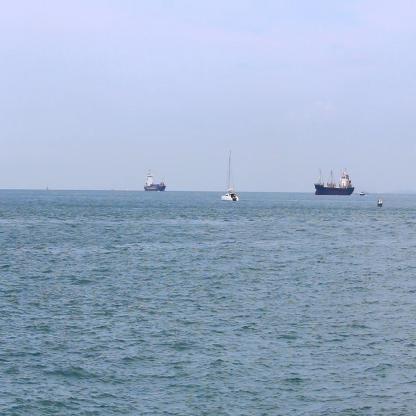Container Ship: (314, 168, 355, 196), (143, 168, 166, 192)
